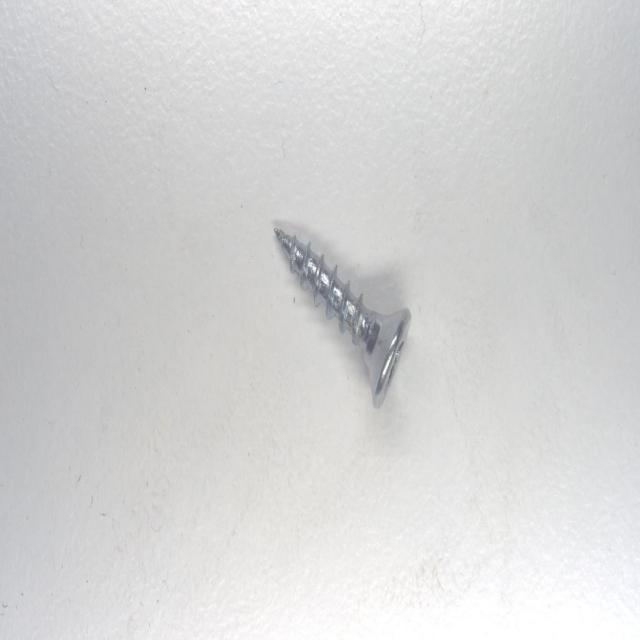Screw: (275, 227, 412, 407)
